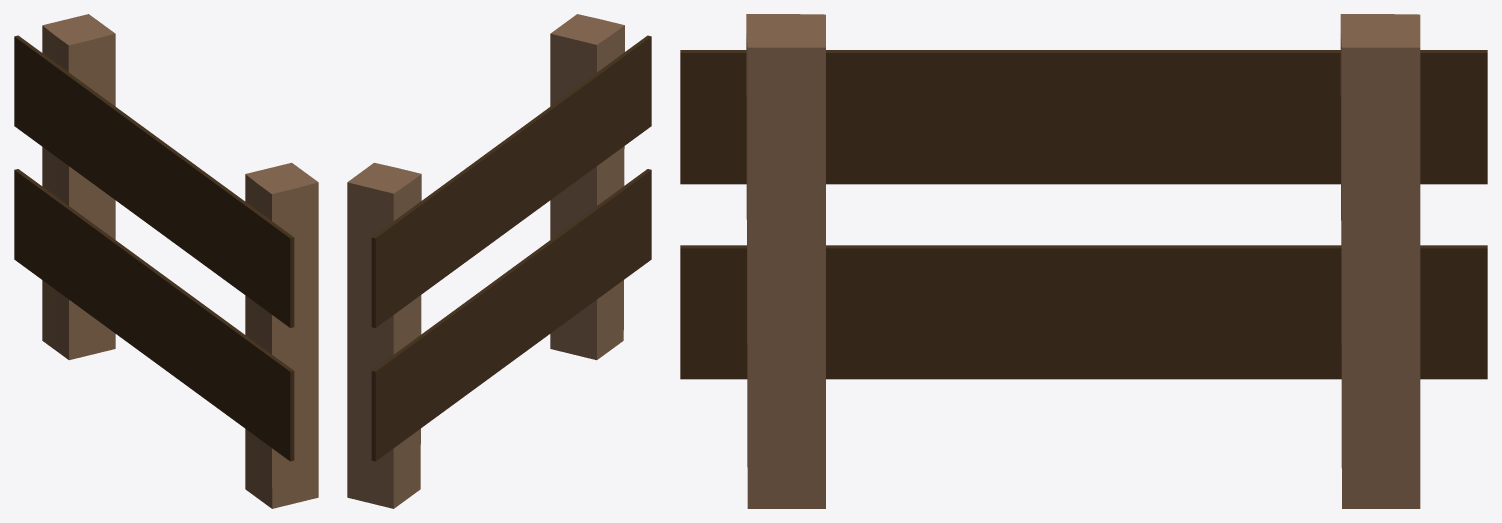
The model's file is Cerca.fbx.
The picture shows the model from 3 angles, left to right: view 1: azimuth 30°, elevation 25°; view 2: azimuth 150°, elevation 25°; view 3: azimuth 270°, elevation 25°; orthographic projection. The views are drawn at different scales.
Visible parts, largest first — view 1: pCube34, pCube37, pCube3, pCube35; view 2: pCube34, pCube37, pCube35, pCube3; view 3: pCube34, pCube37, pCube35, pCube3.
Boxes of the visible parts, box(x1,y1,x2,y2) form: pCube34: box(14, 169, 294, 461); pCube37: box(14, 35, 294, 327); pCube3: box(245, 162, 318, 508); pCube35: box(42, 14, 115, 360); pCube34: box(371, 169, 651, 461); pCube37: box(371, 35, 651, 327); pCube35: box(347, 162, 421, 508); pCube3: box(550, 14, 624, 360); pCube34: box(680, 245, 1487, 379); pCube37: box(680, 50, 1487, 184); pCube35: box(1340, 14, 1420, 508); pCube3: box(746, 14, 825, 508).
Size of the model in its own units: 1.33 by 7.77 by 12.33.
